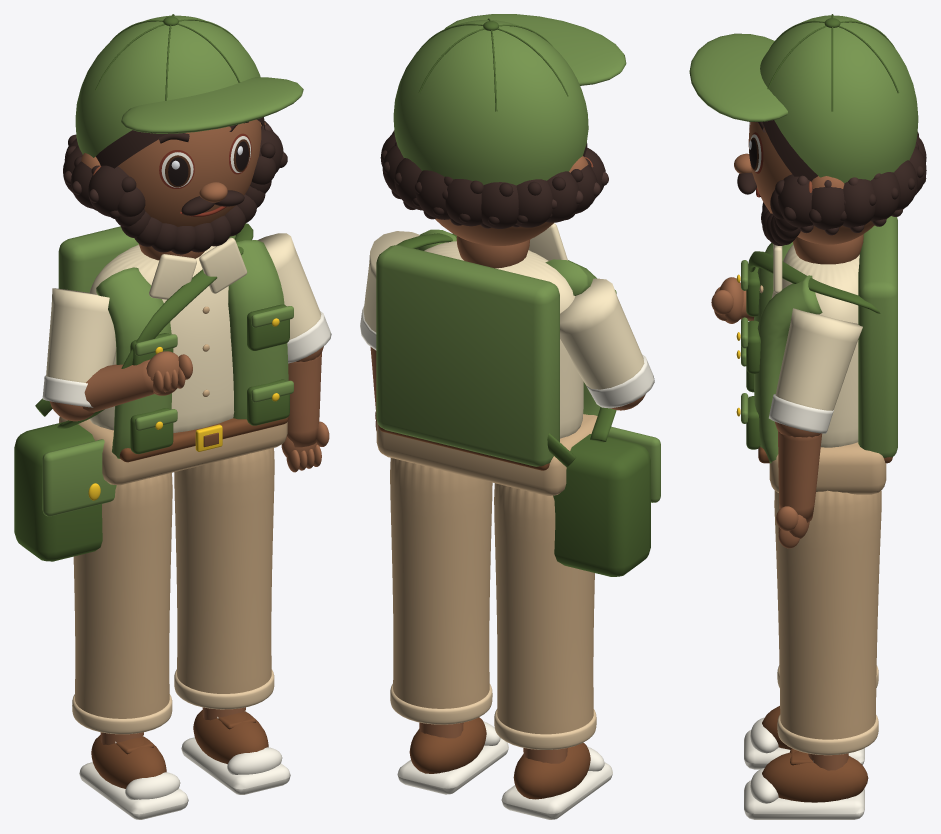
Rendered from community_guide.glb.
The picture shows the model from 3 angles, left to right: view 1: azimuth 30°, elevation 25°; view 2: azimuth 150°, elevation 25°; view 3: azimuth 270°, elevation 25°; orthographic projection. The views are drawn at different scales.
Parts seen in each view (by area): view 1: trouser_1, trouser_-1, hair_scalp.001, cream_shirt, satchel, head_surface, cap_brim, vest_front_1, shirt_sleeve_-1, vest_front_-1, trouser_waist, satchel_flap (+29 smaller); view 2: vest_back, hair_scalp.001, trouser_1, trouser_-1, satchel, shirt_sleeve_-1, trouser_waist, cap_brim, cream_shirt, boot_1_upper, boot_-1_upper, boot_-1_sole (+21 smaller); view 3: trouser_1, hair_scalp.001, vest_back, shirt_sleeve_1, cap_brim, cream_shirt, vest_front_1, boot_1_upper, trouser_waist, forearm_1, boot_1_sole, head_surface (+23 smaller).
Part boxes in pixels (box(x1,y1,x2,y2)): trouser_1: box(174, 448, 274, 693); trouser_-1: box(73, 473, 172, 718); hair_scalp.001: box(75, 15, 260, 157); cream_shirt: box(89, 244, 234, 432); satchel: box(14, 422, 102, 561); head_surface: box(117, 119, 261, 226); cap_brim: box(121, 77, 303, 133); vest_front_1: box(228, 240, 288, 419); shirt_sleeve_-1: box(46, 288, 116, 382); vest_front_-1: box(96, 267, 171, 458); trouser_waist: box(59, 416, 287, 485); satchel_flap: box(42, 439, 116, 516); vest_back: box(376, 245, 559, 466); hair_scalp.001: box(393, 20, 588, 185); trouser_1: box(390, 458, 492, 708); trouser_-1: box(494, 483, 594, 734); satchel: box(553, 434, 650, 576); shirt_sleeve_-1: box(560, 278, 644, 389); trouser_waist: box(376, 414, 597, 495); cap_brim: box(445, 14, 626, 85); cream_shirt: box(424, 241, 583, 438); boot_1_upper: box(409, 717, 486, 773); boot_-1_upper: box(513, 742, 590, 799); boot_-1_sole: box(501, 762, 612, 819); trouser_1: box(774, 490, 881, 739); hair_scalp.001: box(760, 15, 918, 183); vest_back: box(858, 216, 897, 457); shirt_sleeve_1: box(775, 308, 862, 410); cap_brim: box(689, 33, 787, 121); cream_shirt: box(771, 244, 859, 447); vest_front_1: box(754, 275, 822, 463); boot_1_upper: box(762, 751, 868, 802); trouser_waist: box(769, 442, 886, 494); forearm_1: box(777, 430, 821, 522); boot_1_sole: box(744, 780, 864, 819); head_surface: box(748, 122, 874, 244).
Bounding box in the file's own units: 0.6767 × 1.7 × 0.4776.
